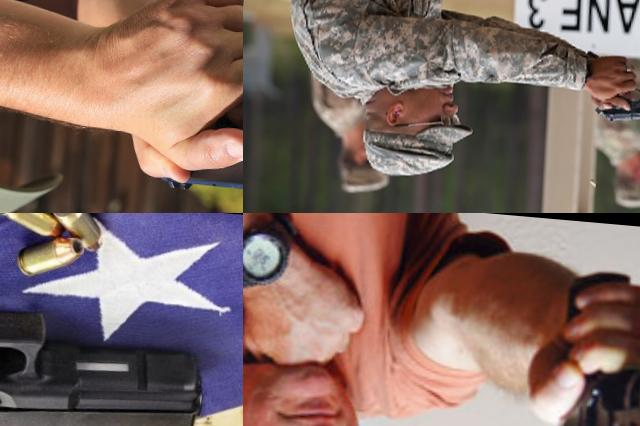handgun: (0, 213, 243, 426), (541, 263, 640, 426), (152, 71, 243, 205), (587, 76, 640, 127)
